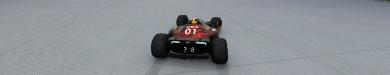Car: (150, 14, 228, 64)
